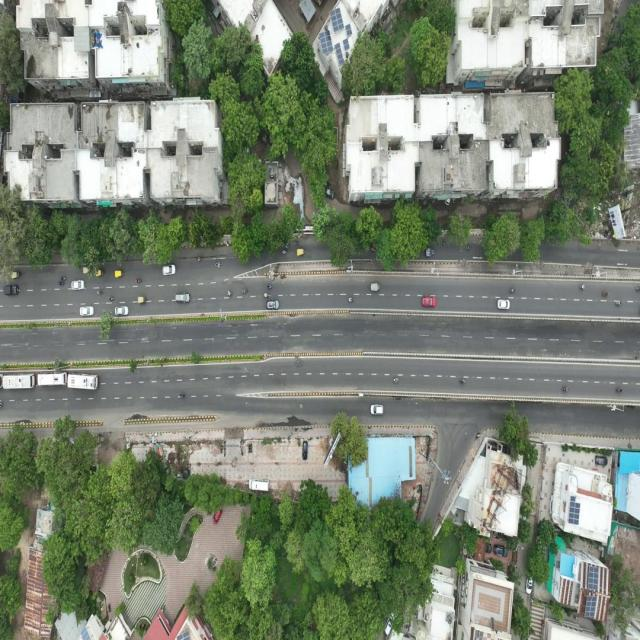3W: (113, 267, 125, 280), (295, 246, 306, 258), (9, 270, 22, 280), (94, 268, 107, 278), (137, 294, 147, 305), (281, 249, 287, 255)
Bus: (2, 372, 37, 394), (66, 371, 99, 392), (35, 369, 68, 390)
Cars: (248, 476, 270, 494), (175, 290, 192, 306), (77, 304, 96, 318), (495, 296, 511, 312), (2, 284, 20, 297), (113, 304, 131, 317), (211, 506, 223, 525), (161, 264, 177, 278), (421, 294, 437, 308), (368, 403, 385, 415), (494, 544, 508, 558), (595, 454, 609, 467), (72, 278, 86, 291), (324, 187, 336, 200), (266, 299, 280, 310), (302, 439, 308, 459)
LCV: (424, 246, 436, 259), (369, 282, 382, 292)
M2W: (561, 384, 570, 394), (457, 377, 467, 386), (391, 376, 401, 385), (178, 391, 188, 400), (240, 286, 250, 295), (265, 281, 275, 290), (507, 286, 517, 295), (614, 299, 624, 308), (440, 236, 447, 248), (263, 290, 272, 299), (134, 276, 144, 284), (225, 288, 233, 298), (464, 243, 472, 253), (602, 289, 609, 300), (106, 602, 112, 614), (213, 261, 222, 269), (578, 283, 587, 291), (95, 289, 105, 296), (194, 256, 204, 263), (474, 429, 480, 440), (108, 294, 115, 303), (634, 284, 640, 294), (616, 386, 623, 394), (58, 280, 66, 287), (59, 274, 68, 280), (348, 297, 354, 302), (293, 241, 300, 245)
